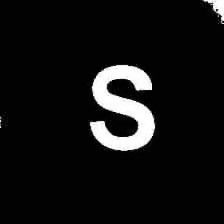LTR_S: (84, 60, 165, 156)
